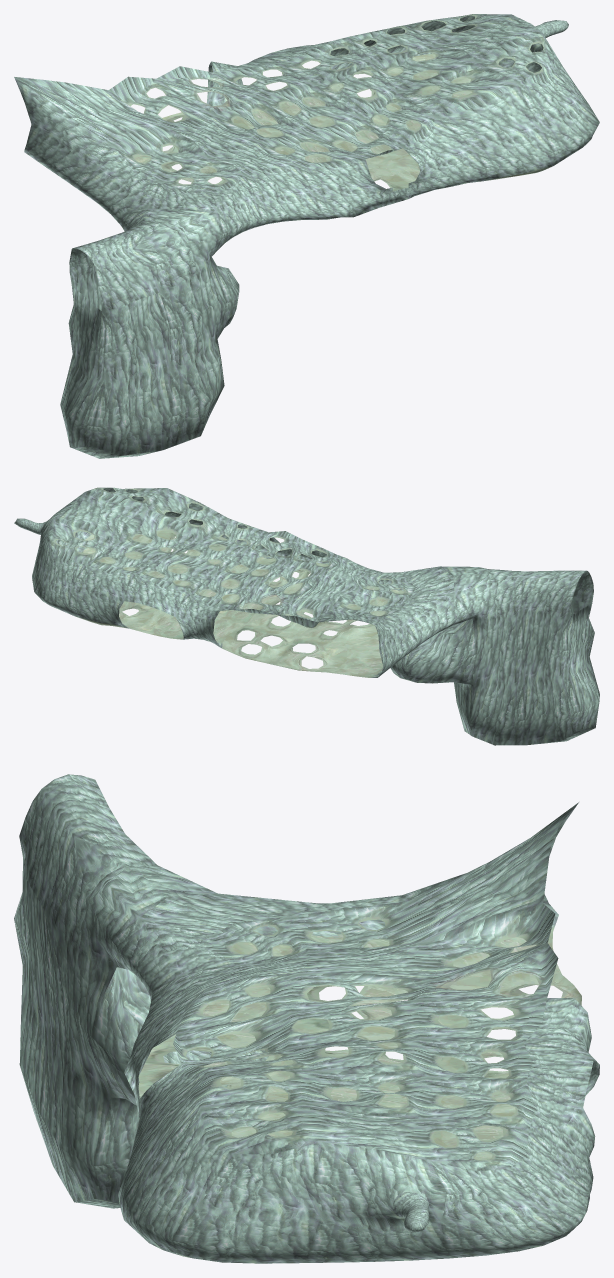
File: TROLLHOLE02_PS-MAINCAVE01.fbx
3 renders of one model, top to bottom at view 1: azimuth 30°, elevation 25°; view 2: azimuth 150°, elevation 25°; view 3: azimuth 270°, elevation 25°, orthographic. The views are drawn at different scales.
Parts seen in each view (by area): view 1: TROLLHOLE02_PS-MAINCAVE01; view 2: TROLLHOLE02_PS-MAINCAVE01; view 3: TROLLHOLE02_PS-MAINCAVE01.
Part boxes in pixels (left/top/right/bottom): TROLLHOLE02_PS-MAINCAVE01: left=14, top=14, right=599, bottom=458; TROLLHOLE02_PS-MAINCAVE01: left=14, top=487, right=599, bottom=745; TROLLHOLE02_PS-MAINCAVE01: left=14, top=774, right=599, bottom=1263.
Bounding box in the file's own units: 843733 × 339545 × 448450.
9 materials, 9 textured.
